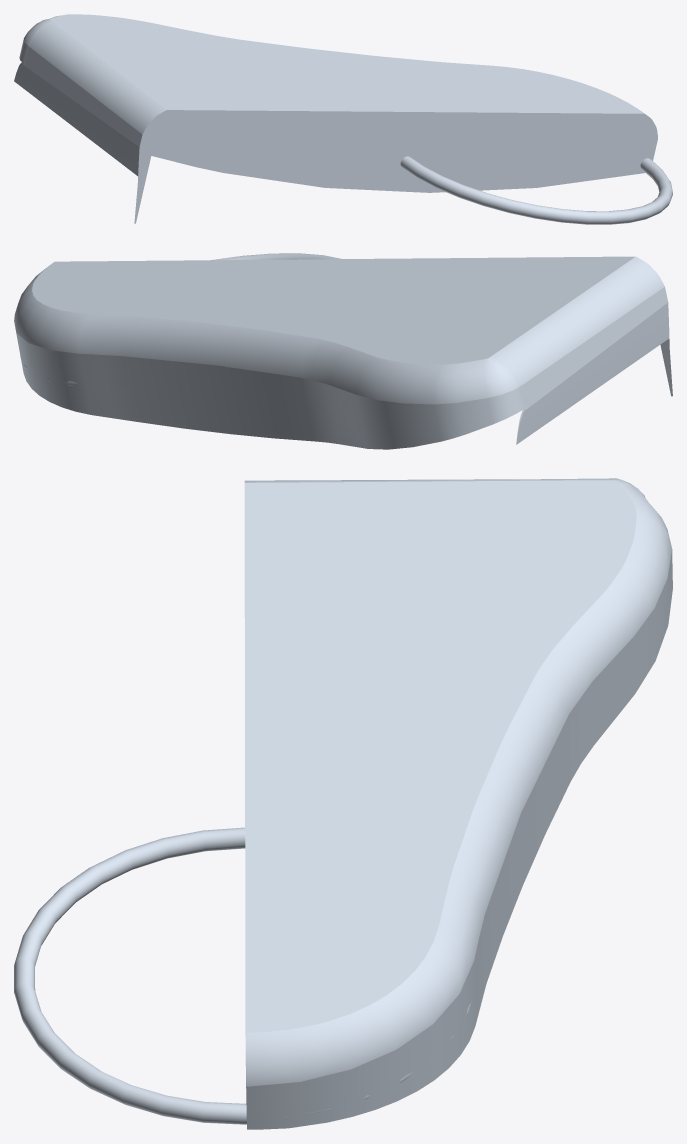
File: RB-021_viewer.glb
The picture shows the model from 3 angles, top to bottom: view 1: azimuth 30°, elevation 25°; view 2: azimuth 150°, elevation 25°; view 3: azimuth 270°, elevation 25°; orthographic projection. The views are drawn at different scales.
Parts seen in each view (by area): view 1: basebody_imported1; view 2: basebody_imported1; view 3: basebody_imported1.
Part boxes in pixels (box(x1,y1,x2,y2)): basebody_imported1: box(14, 14, 672, 224); basebody_imported1: box(14, 253, 672, 449); basebody_imported1: box(14, 478, 672, 1129).
Size of the model in its own units: 0.0221 by 0.0074 by 0.0155.
